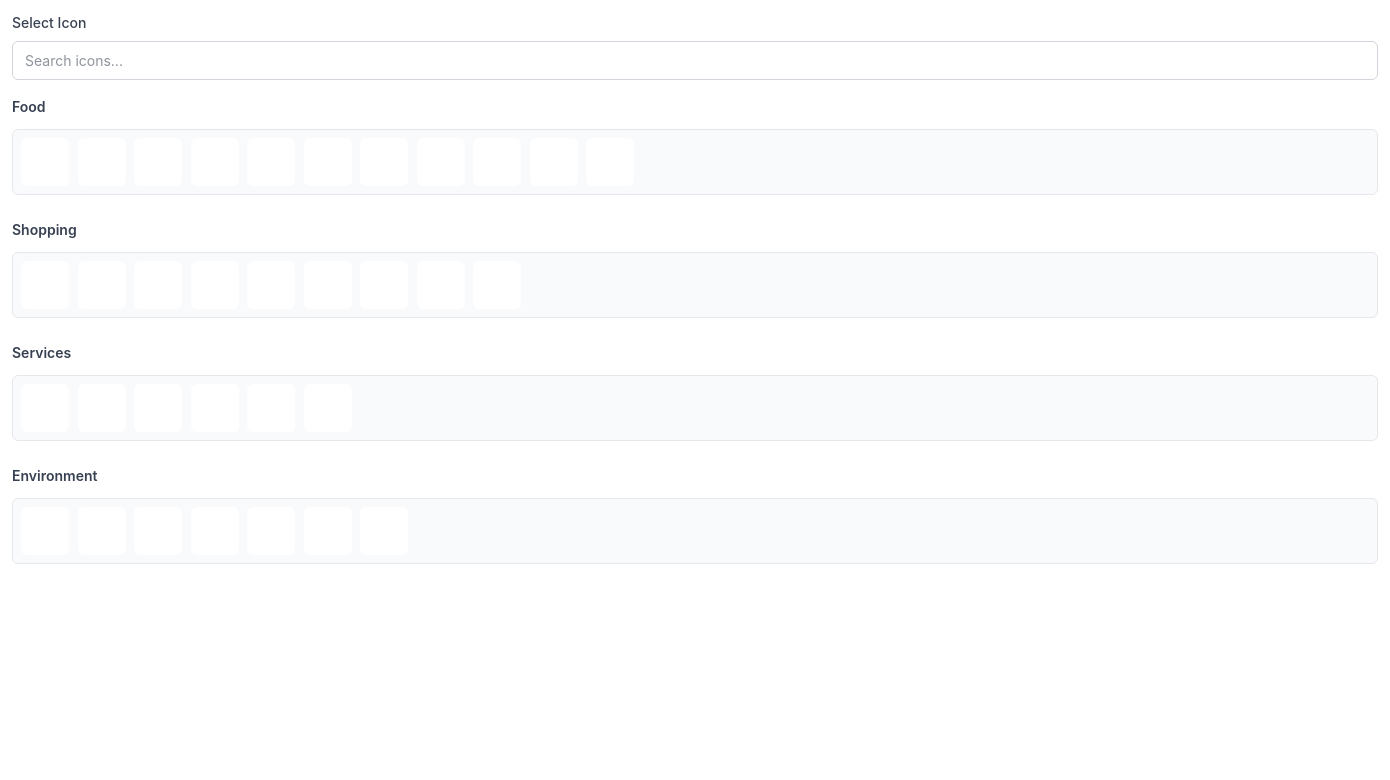
Test: IconSelector › Search Functionality › shows empty state when no results found
The width and height of the screenshot is (1390, 780).
Type "nonexistenticon123" into the field labelled "Select Icon" at (695, 60), box [12,41,1378,80]
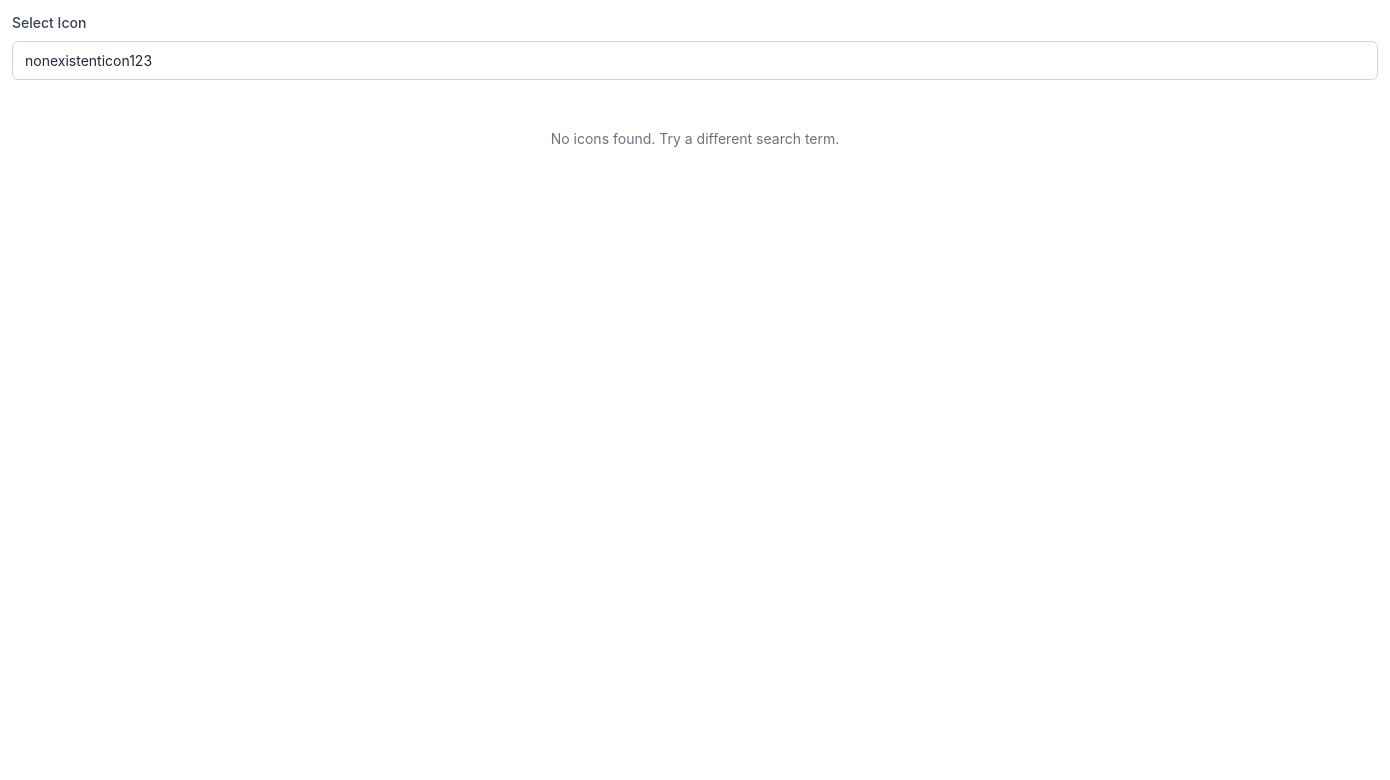
Now the element with test id "no-results" is shown, box [551,130,839,147]
